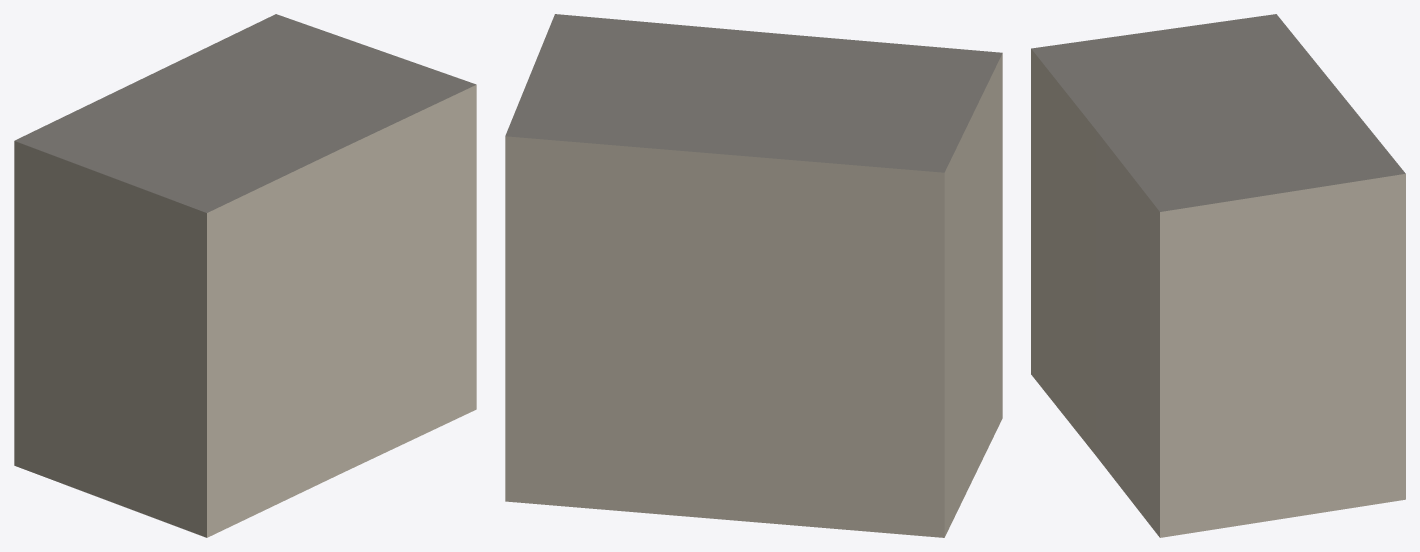
3 views of the same model, side by side, from view 1: azimuth 30°, elevation 25°; view 2: azimuth 150°, elevation 25°; view 3: azimuth 270°, elevation 25° (orthographic). The views are drawn at different scales.
Visible parts, largest first — view 1: HP-w378107114; view 2: HP-w378107114; view 3: HP-w378107114.
Boxes of the visible parts, x1,y1,x2,y2 form: HP-w378107114: (14,14,476,537); HP-w378107114: (505,14,1002,537); HP-w378107114: (1031,14,1405,537).
Size of the model in its own units: 23.46 by 18 by 18.76.
